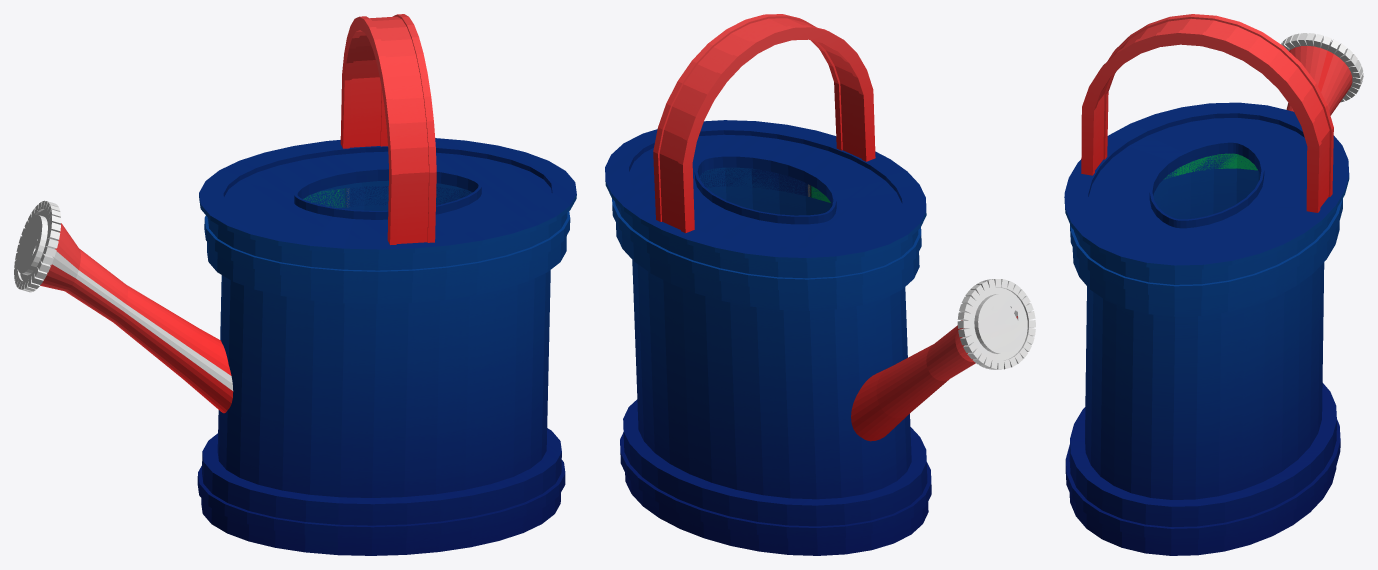
The model's file is Regador.fbx.
The picture shows the model from 3 angles, left to right: view 1: azimuth 30°, elevation 25°; view 2: azimuth 150°, elevation 25°; view 3: azimuth 270°, elevation 25°; orthographic projection. The views are drawn at different scales.
Parts seen in each view (by area): view 1: Circle.002; view 2: Circle.002; view 3: Circle.002.
Part boxes in pixels (x1,y1,x2,y2): Circle.002: [14, 14, 576, 555]; Circle.002: [605, 14, 1035, 555]; Circle.002: [1064, 14, 1363, 555].
Size of the model in its own units: 113 by 108 by 62.94.
1 material, 1 textured.
